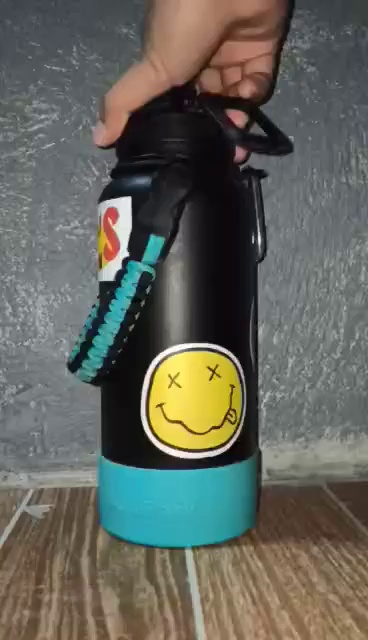hand: (89, 1, 289, 166)
tumbler: (68, 85, 294, 552)
